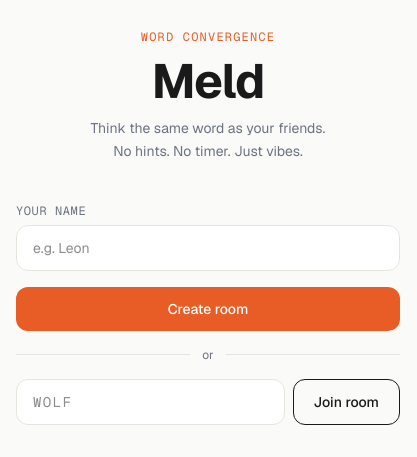
Home › Join room › shows an error when the room code is not 4 characters
Type "AB" into the field with placeholder "WOLF" at x=150, y=402, box [16,379,285,425]
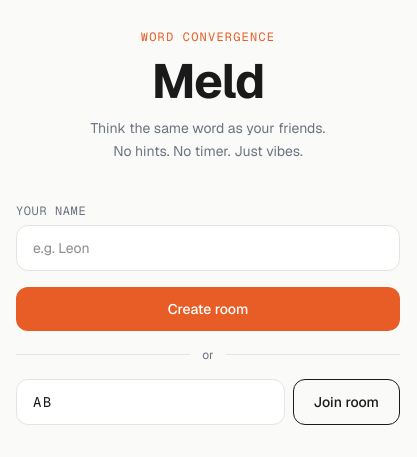
Click the button "Join room" at x=346, y=402, box [293,379,400,425]
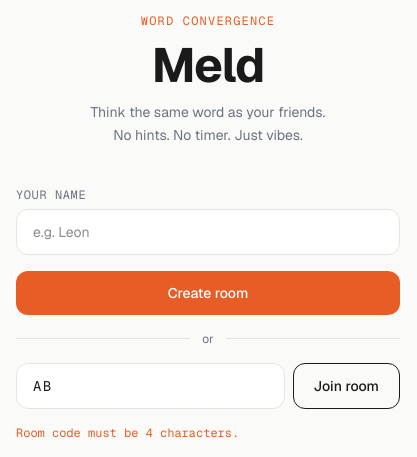
Expected: the text "Room code must be 4 characters." is shown, [16,425,239,441]
